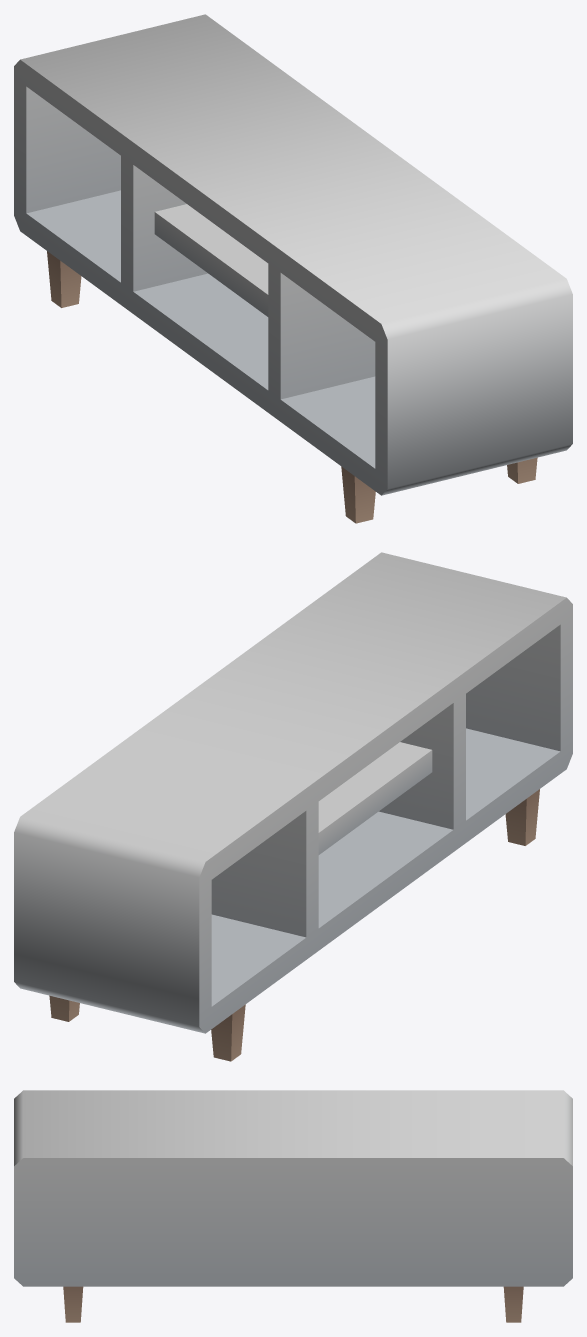
Rendered from tv-cabinet-small.glb.
The picture shows the model from 3 angles, top to bottom: view 1: azimuth 30°, elevation 25°; view 2: azimuth 150°, elevation 25°; view 3: azimuth 270°, elevation 25°; orthographic projection. The views are drawn at different scales.
Parts seen in each view (by area): view 1: tv-cabinet-small; view 2: tv-cabinet-small; view 3: tv-cabinet-small.
Part boxes in pixels (x1=…): tv-cabinet-small: x1=14, y1=14, x2=572, y2=523; tv-cabinet-small: x1=14, y1=552, x2=572, y2=1061; tv-cabinet-small: x1=14, y1=1090, x2=572, y2=1322.
Bounding box in the file's own units: 0.4 × 0.456 × 1.4.
